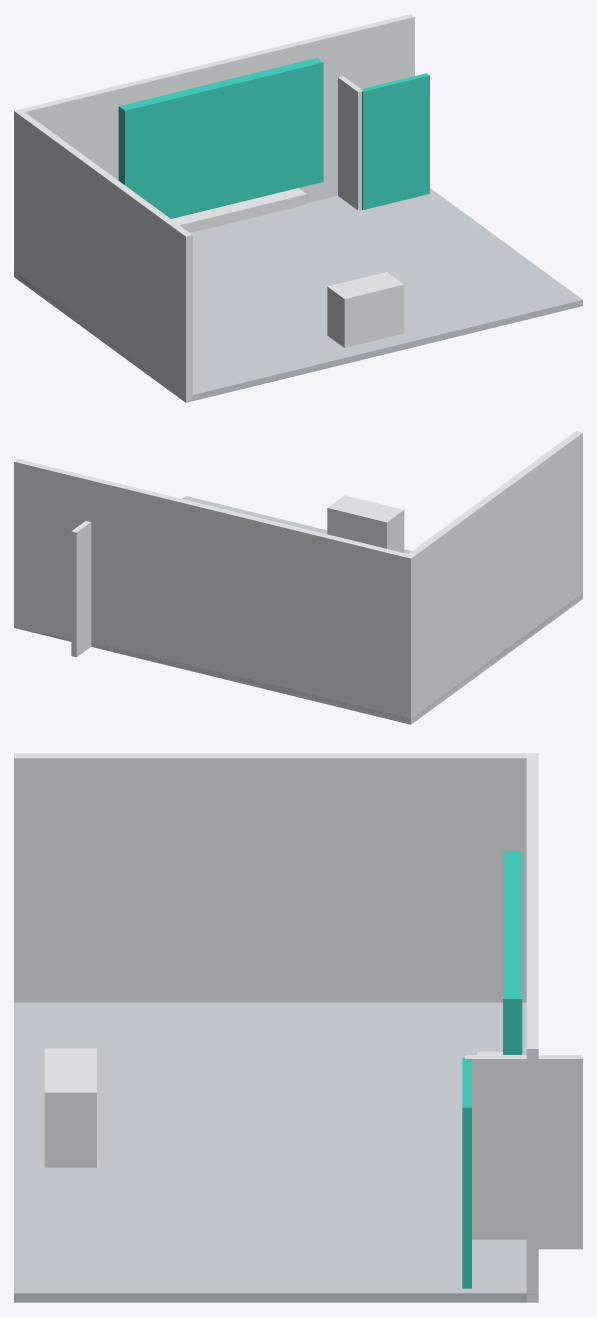
The picture shows the model from 3 angles, top to bottom: view 1: azimuth 30°, elevation 25°; view 2: azimuth 150°, elevation 25°; view 3: azimuth 270°, elevation 25°; orthographic projection. The views are drawn at different scales.
Parts seen in each view (by area): view 1: Exhibition Booth Concept; view 2: Exhibition Booth Concept; view 3: Exhibition Booth Concept.
Boxes of the visible parts, x1,y1,x2,y2 form: Exhibition Booth Concept: [14, 14, 582, 402]; Exhibition Booth Concept: [14, 431, 582, 724]; Exhibition Booth Concept: [14, 753, 582, 1302].
Bounding box in the file's own units: 8 × 3.2 × 6.51.
